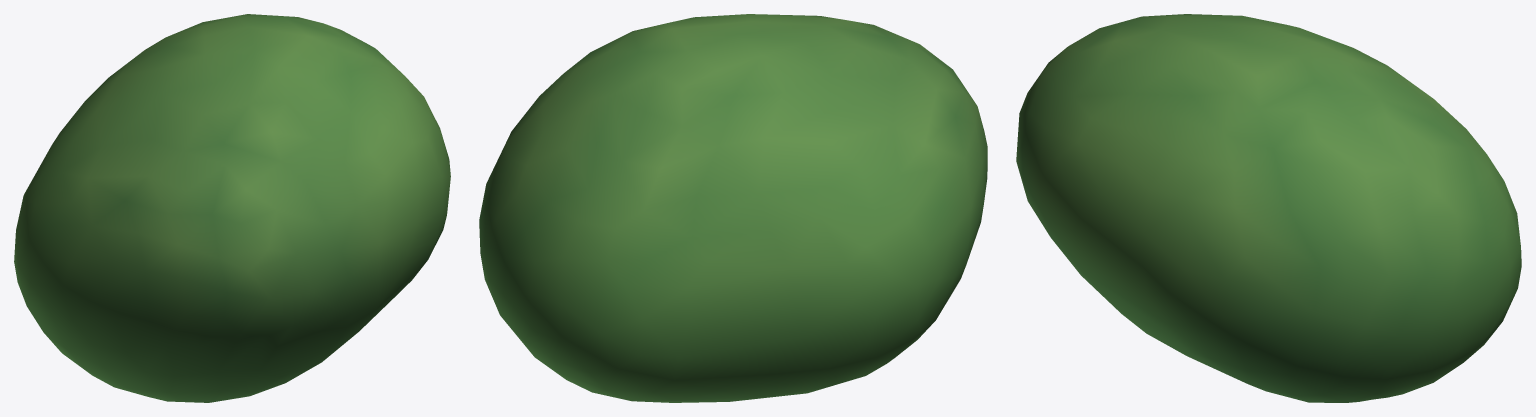
The model's file is env_sky_shrub.glb.
3 renders of one model, left to right at view 1: azimuth 30°, elevation 25°; view 2: azimuth 150°, elevation 25°; view 3: azimuth 270°, elevation 25°, orthographic.
Parts seen in each view (by area): view 1: SM_sky_sky_vc_x0_z0.022; view 2: SM_sky_sky_vc_x0_z0.022; view 3: SM_sky_sky_vc_x0_z0.022.
Boxes of the visible parts, bbox=[...] form: SM_sky_sky_vc_x0_z0.022: bbox=[14, 14, 450, 402]; SM_sky_sky_vc_x0_z0.022: bbox=[479, 14, 987, 402]; SM_sky_sky_vc_x0_z0.022: bbox=[1016, 14, 1521, 402].
Size of the model in its own units: 0.9963 by 0.751 by 1.04.
